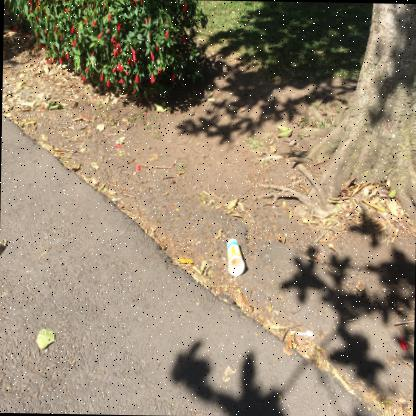Paper cup: (226, 238, 244, 276)
Plastic utensils: (289, 330, 313, 336)
